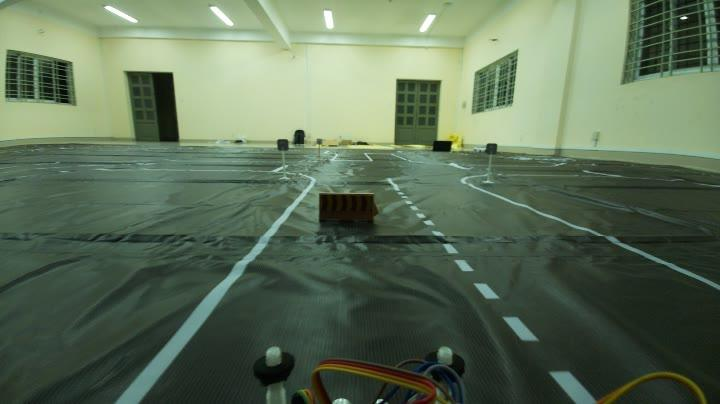roadblock: (308, 187, 390, 238)
